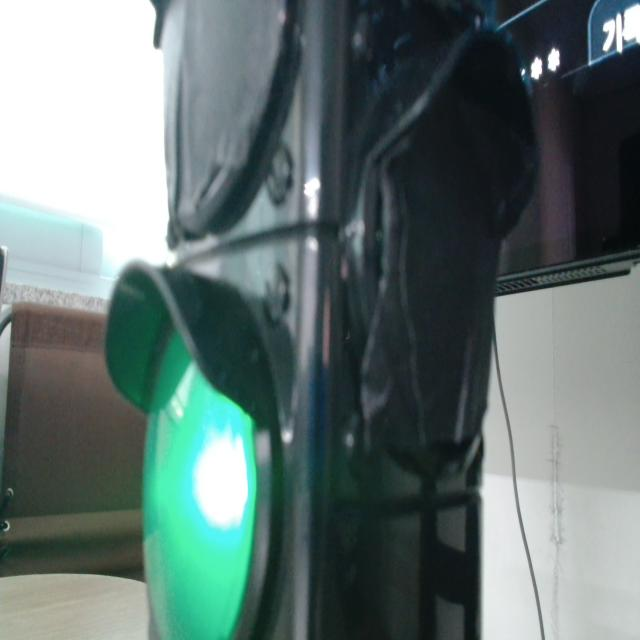green_light: (144, 334, 256, 639)
